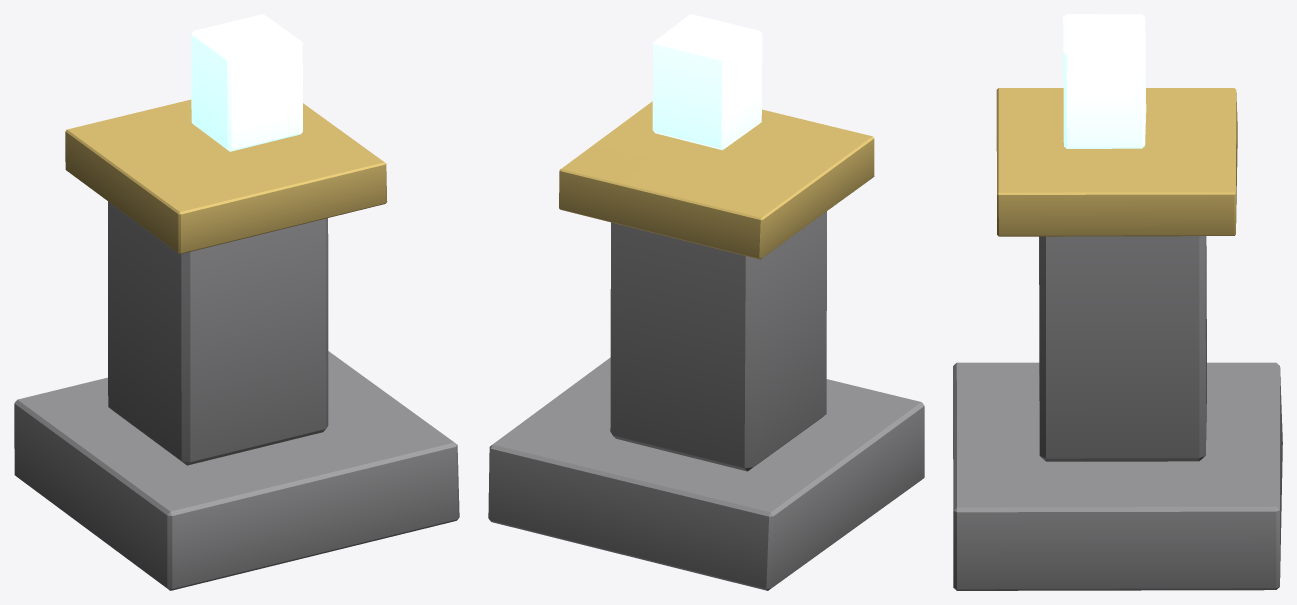
The model's file is relic_pedestal.glb.
3 views of the same model, side by side, from view 1: azimuth 30°, elevation 25°; view 2: azimuth 150°, elevation 25°; view 3: azimuth 270°, elevation 25° (orthographic). The views are drawn at different scales.
Parts seen in each view (by area): view 1: Base, Pillar, Top, Gem; view 2: Base, Pillar, Top, Gem; view 3: Base, Pillar, Top, Gem.
Boxes of the visible parts, box(x1,y1,x2,y2) form: Base: box(14, 351, 459, 590); Pillar: box(108, 201, 328, 465); Top: box(65, 99, 387, 254); Gem: box(191, 14, 302, 151); Base: box(488, 357, 924, 590); Pillar: box(610, 211, 826, 471); Top: box(559, 101, 874, 259); Gem: box(652, 14, 762, 150); Base: box(953, 362, 1282, 590); Pillar: box(1039, 236, 1206, 461); Top: box(996, 88, 1237, 236); Gem: box(1063, 14, 1146, 148).
Bounding box in the file's own units: 0.5785 × 0.8854 × 0.5416.
